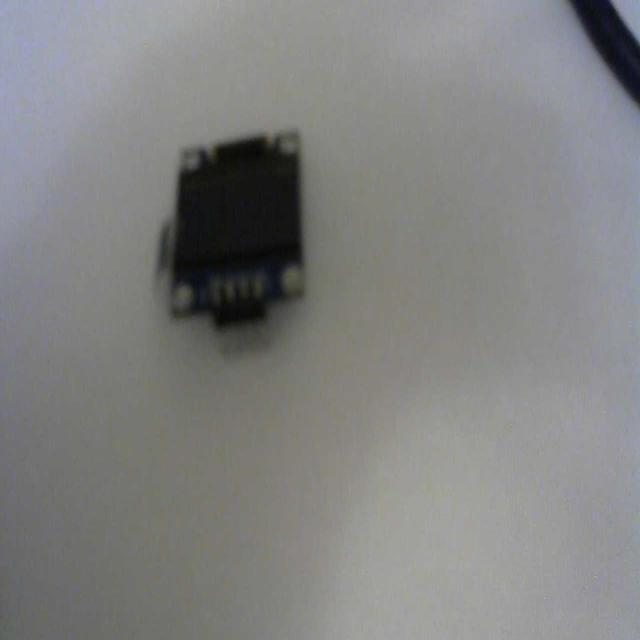oled: (151, 132, 314, 352)
